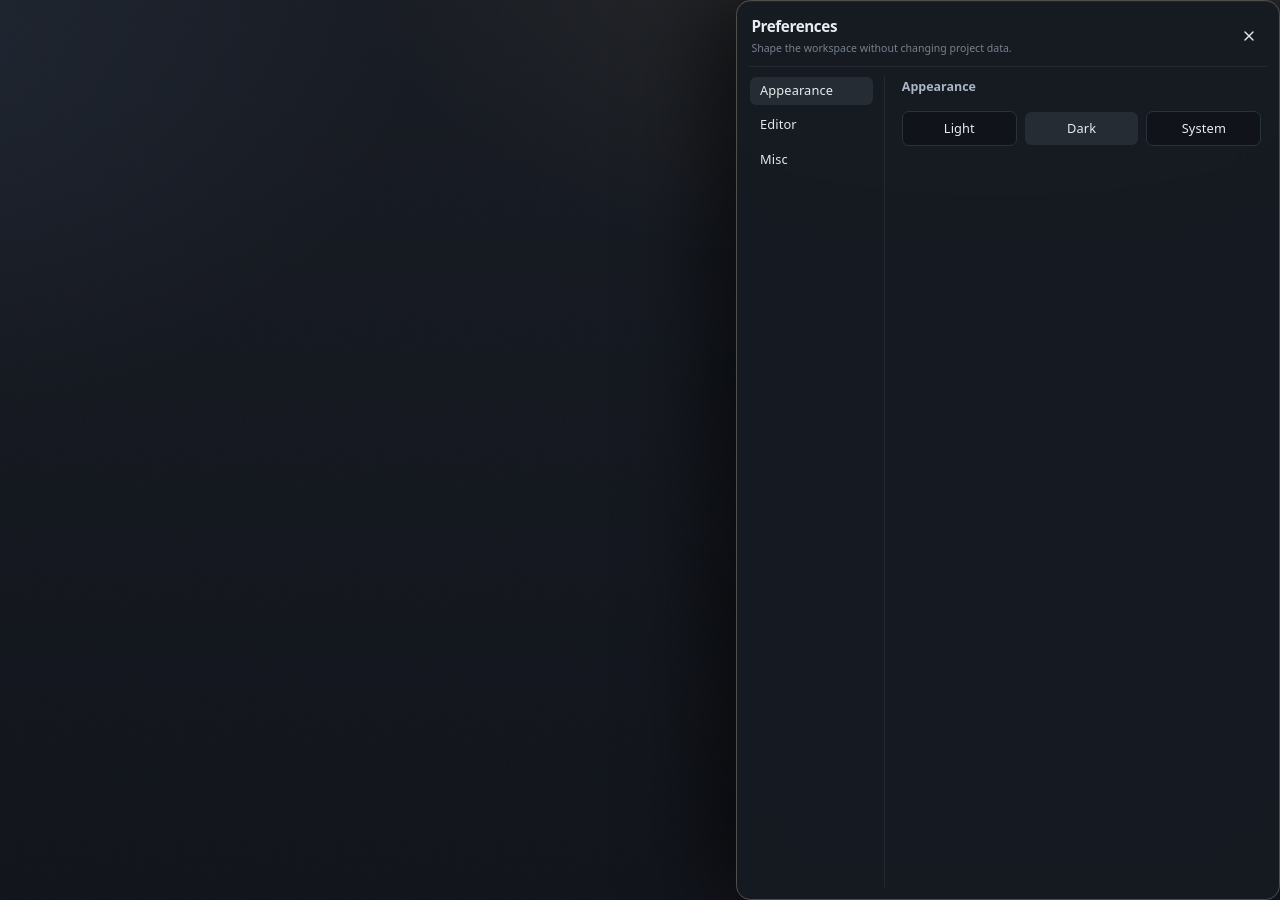
Test: ConfigDrawer › shows fallback state when native font enumeration fails
Click the button "Editor" at x=811, y=125, box x1=749 y1=110 x2=874 y2=140
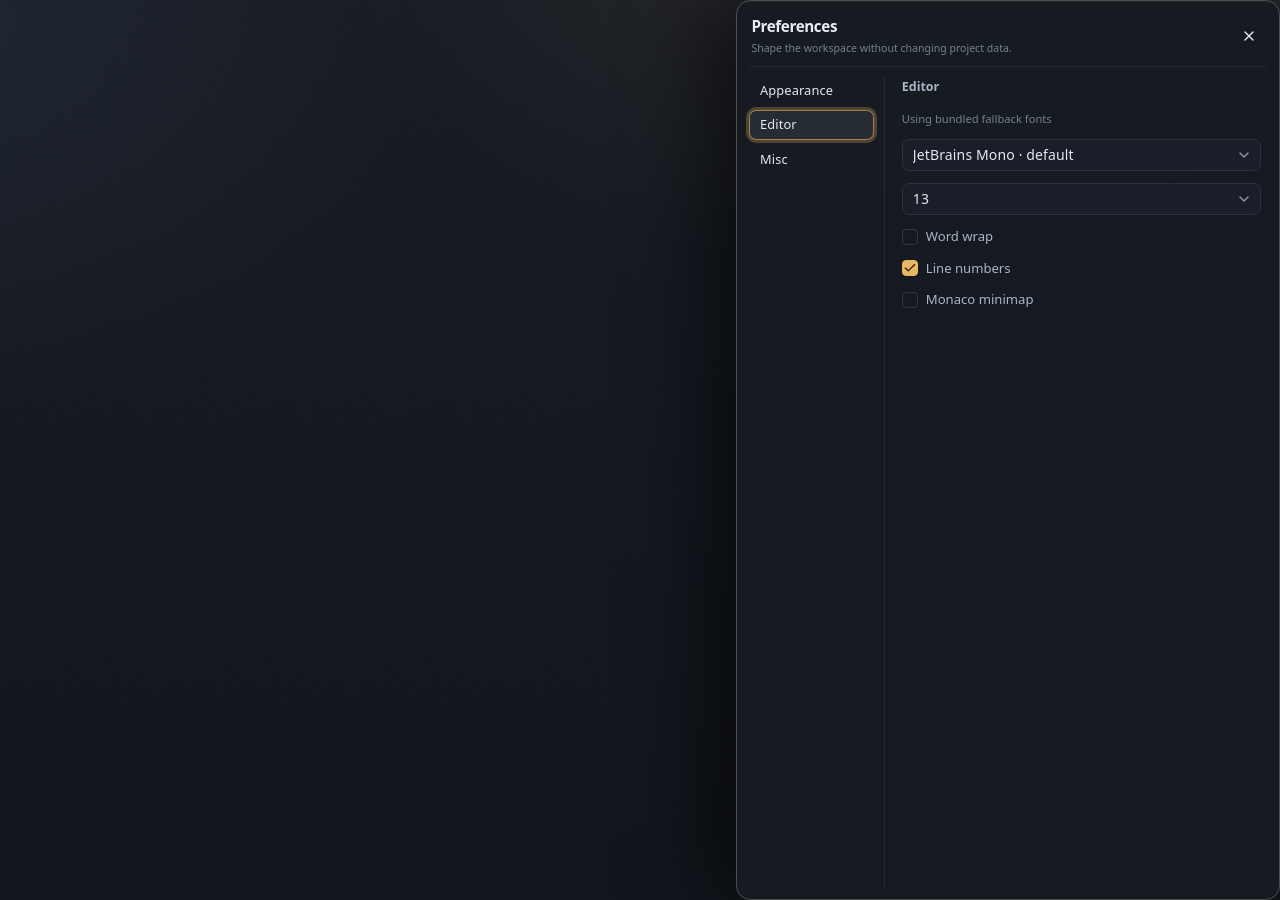
Now the text "Using bundled fallback fonts" is shown, box x1=902 y1=111 x2=1052 y2=126
